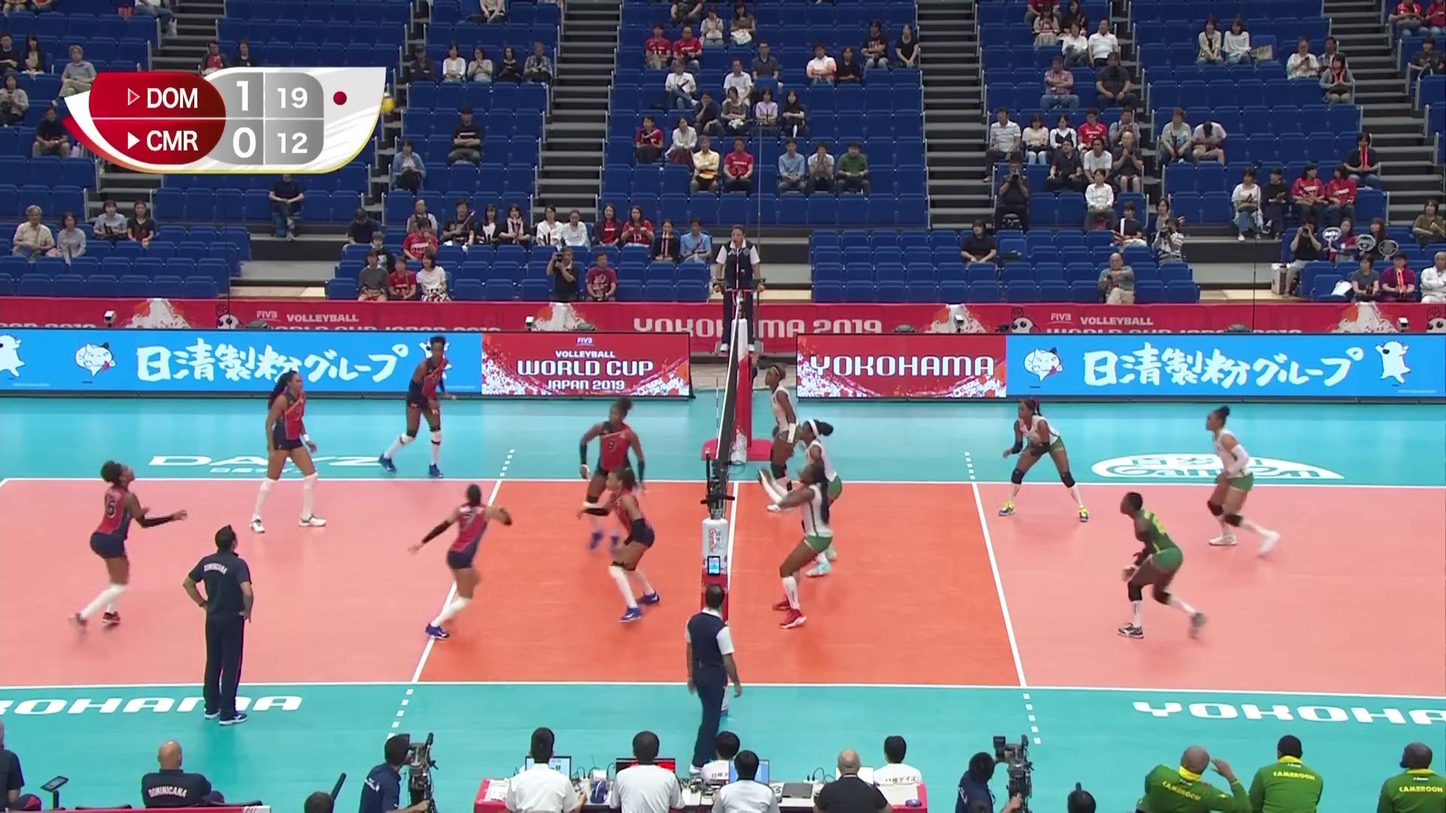player: (74, 458, 184, 626), (410, 481, 514, 634), (1107, 492, 1208, 637), (754, 463, 832, 627), (252, 369, 330, 532), (1201, 408, 1283, 553), (584, 470, 659, 622), (996, 399, 1088, 521), (376, 336, 456, 476), (578, 401, 651, 549), (792, 419, 840, 576), (763, 365, 801, 513)
refree: (679, 583, 744, 772), (712, 224, 763, 354)
